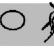no answer: (0, 8, 26, 31)
